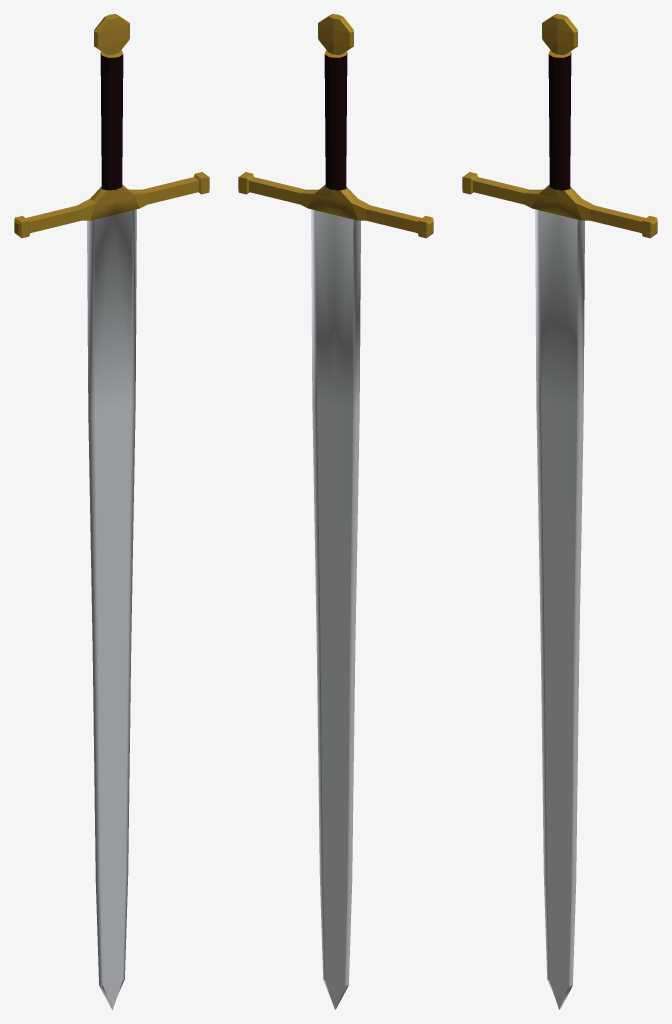
The model's file is simpleSword_01.fbx.
3 views of the same model, side by side, from view 1: azimuth 30°, elevation 25°; view 2: azimuth 150°, elevation 25°; view 3: azimuth 330°, elevation 25° (orthographic).
Visible parts, largest first — view 1: sword_01; view 2: sword_01; view 3: sword_01.
Part boxes in pixels (left/top/right/bottom): sword_01: left=14, top=14, right=209, bottom=1009; sword_01: left=238, top=14, right=433, bottom=1009; sword_01: left=462, top=14, right=657, bottom=1009.
Bounding box in the file's own units: 24.57 × 122 × 2.62.
